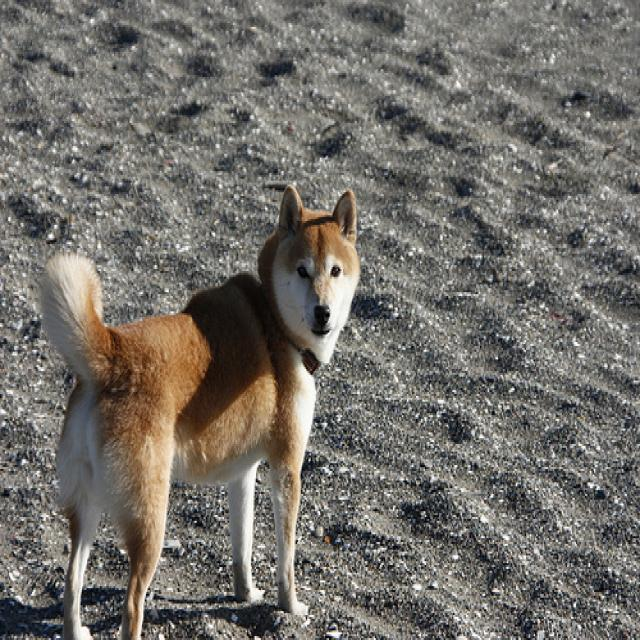dog-shiba_inu: (35, 175, 362, 636)
